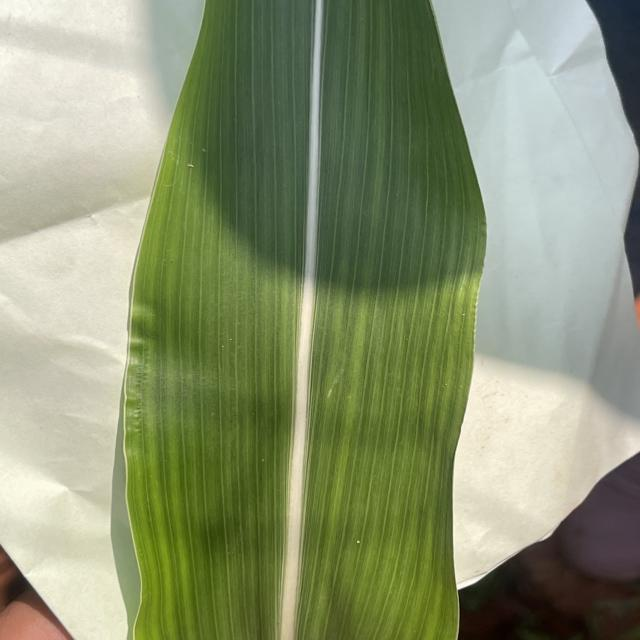millet_healthy: (111, 2, 492, 640)
